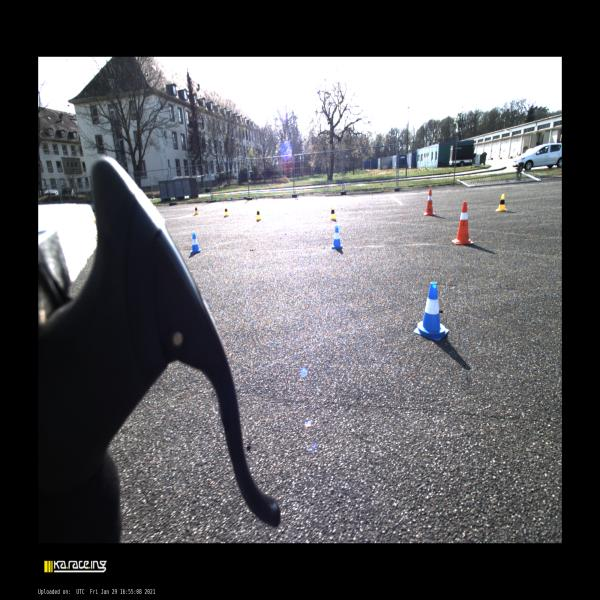blue_cone: (413, 282, 449, 342), (330, 225, 343, 250), (190, 231, 202, 255)
large_orange_cone: (451, 200, 474, 245), (424, 188, 436, 216)
yellow_cone: (496, 193, 507, 212), (330, 205, 336, 220), (255, 208, 261, 221), (224, 206, 228, 218), (194, 205, 198, 215)
